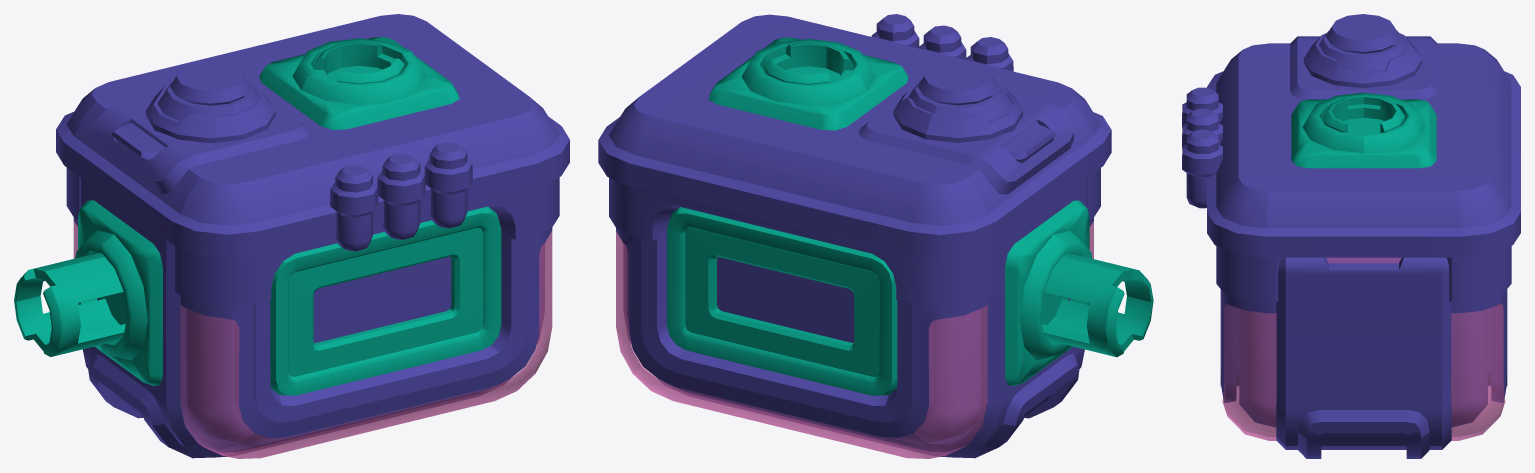
File: obj_containers_chemical_pose1.fbx
3 views of the same model, side by side, from view 1: azimuth 30°, elevation 25°; view 2: azimuth 150°, elevation 25°; view 3: azimuth 270°, elevation 25° (orthographic). The views are drawn at different scales.
Visible parts, largest first — view 1: obj_container_chemical_pose1; view 2: obj_container_chemical_pose1; view 3: obj_container_chemical_pose1.
Part boxes in pixels (box(x1,y1,x2,y2)): obj_container_chemical_pose1: box(14, 14, 569, 458); obj_container_chemical_pose1: box(598, 14, 1153, 458); obj_container_chemical_pose1: box(1182, 14, 1520, 458).
Size of the model in its own units: 5.11 by 3.63 by 3.45.
